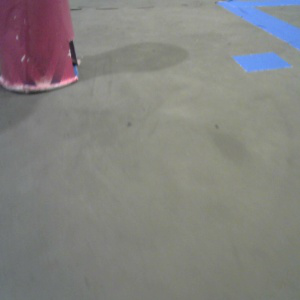middle: (1, 1, 79, 93)
